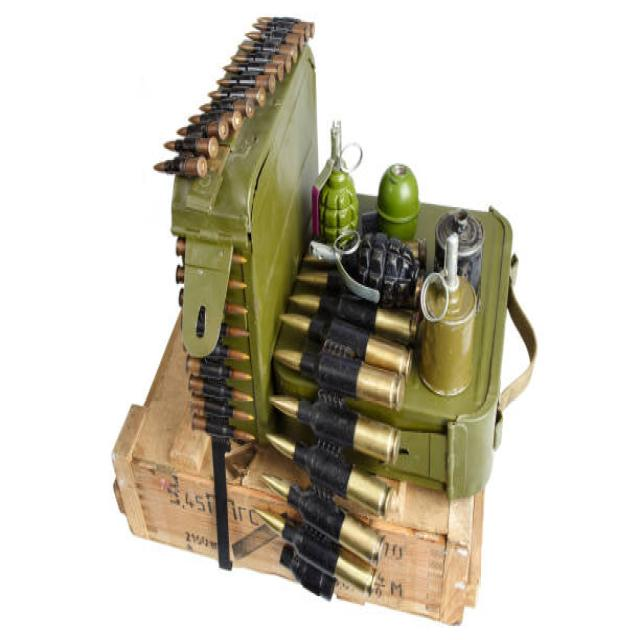grenade: (307, 229, 416, 314), (312, 124, 368, 246)
